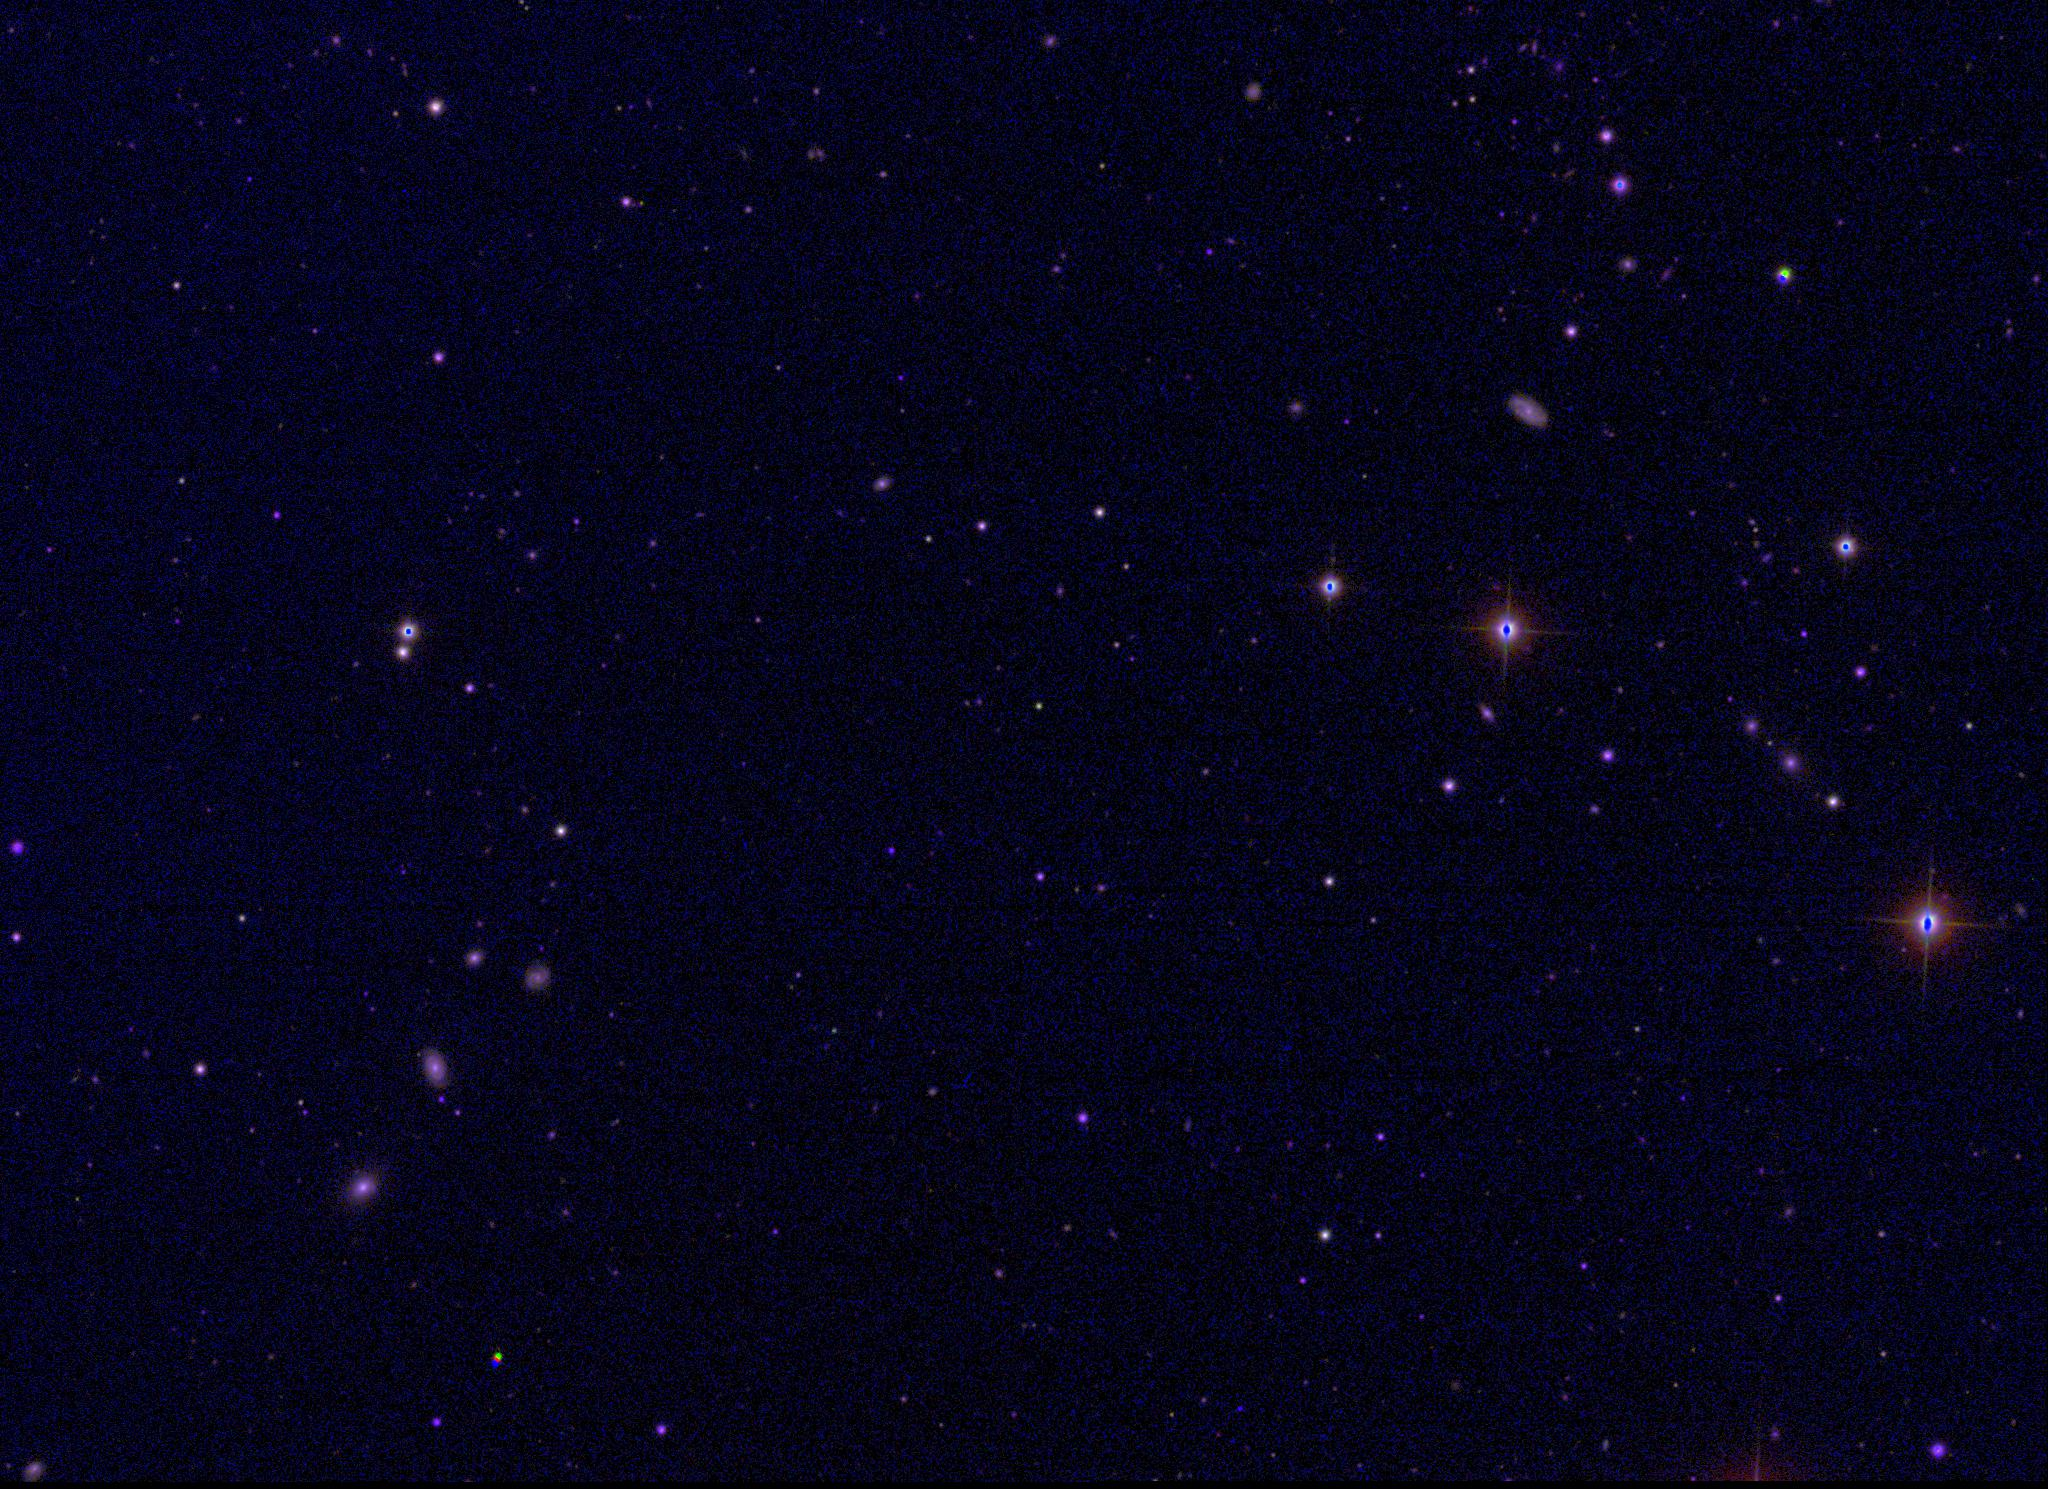L: (1234, 1400, 1248, 1414)
